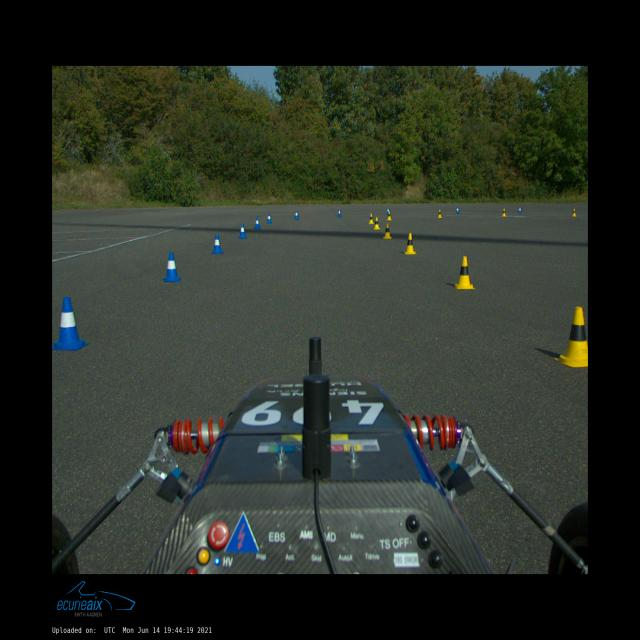blue_cone: (52, 297, 89, 351), (164, 252, 182, 282), (212, 234, 223, 254), (238, 223, 248, 239), (254, 217, 261, 229), (266, 213, 272, 224), (294, 210, 299, 220), (338, 209, 342, 217), (456, 206, 459, 214), (518, 207, 522, 213), (386, 208, 389, 215)
yellow_cone: (554, 307, 588, 367), (453, 256, 475, 289), (404, 233, 416, 255), (383, 224, 392, 239), (373, 217, 380, 230), (386, 211, 392, 221), (368, 214, 374, 224), (572, 208, 577, 217), (438, 209, 442, 218), (502, 208, 506, 216)
